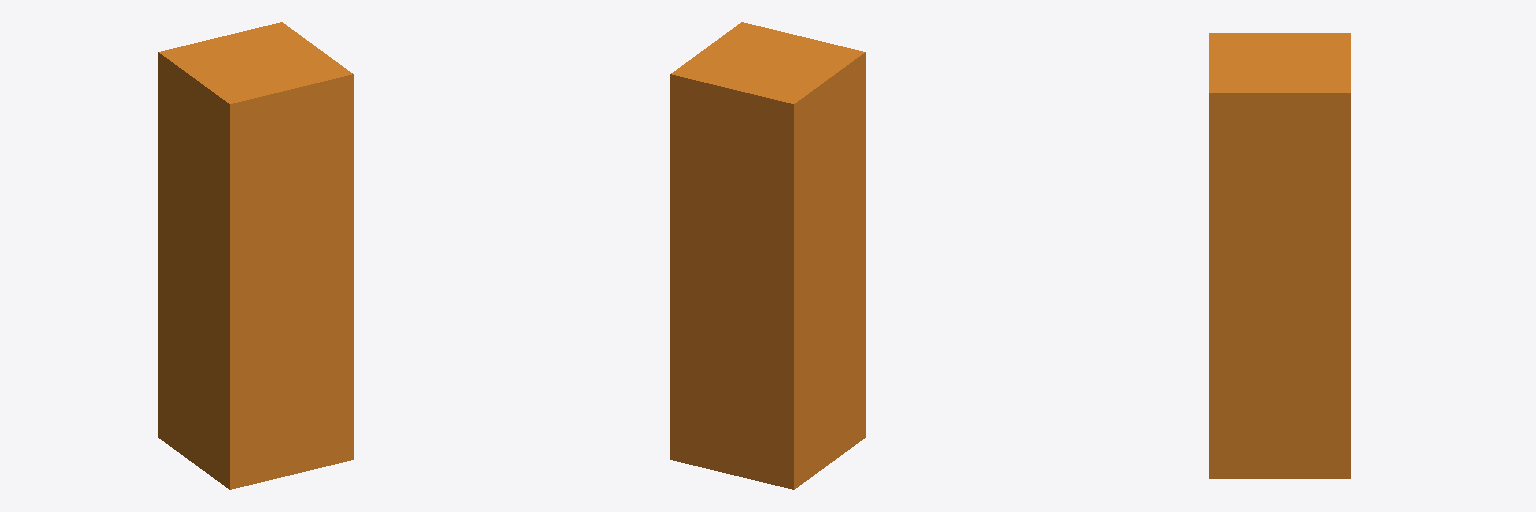
Rendered from bookcase.obj.
3 views of the same model, side by side, from view 1: azimuth 30°, elevation 25°; view 2: azimuth 150°, elevation 25°; view 3: azimuth 270°, elevation 25° (orthographic).
Visible parts, largest first — view 1: Box001; view 2: Box001; view 3: Box001.
Boxes of the visible parts, box(x1,y1,x2,y2) form: Box001: box(158, 22, 353, 489); Box001: box(670, 22, 865, 489); Box001: box(1209, 33, 1350, 478).
Bounding box in the file's own units: 19760 × 58886 × 19760.